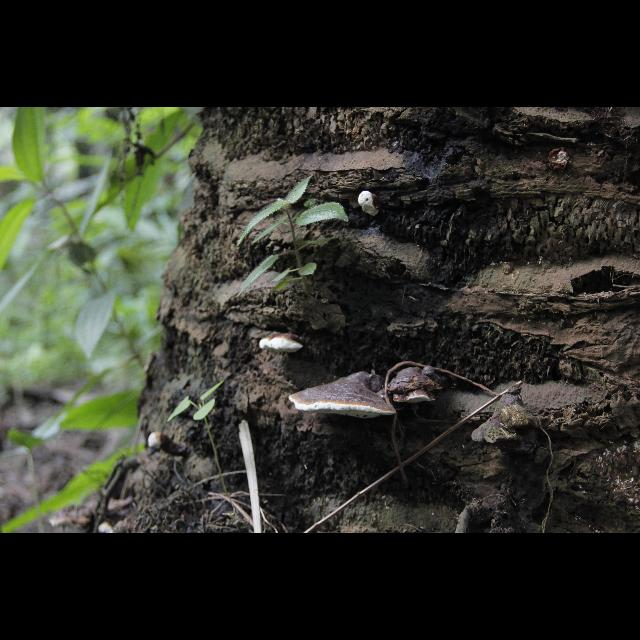ganoderma: (289, 372, 397, 420), (387, 366, 444, 404), (260, 334, 304, 355)
primordium: (359, 191, 382, 217), (148, 432, 168, 452)
